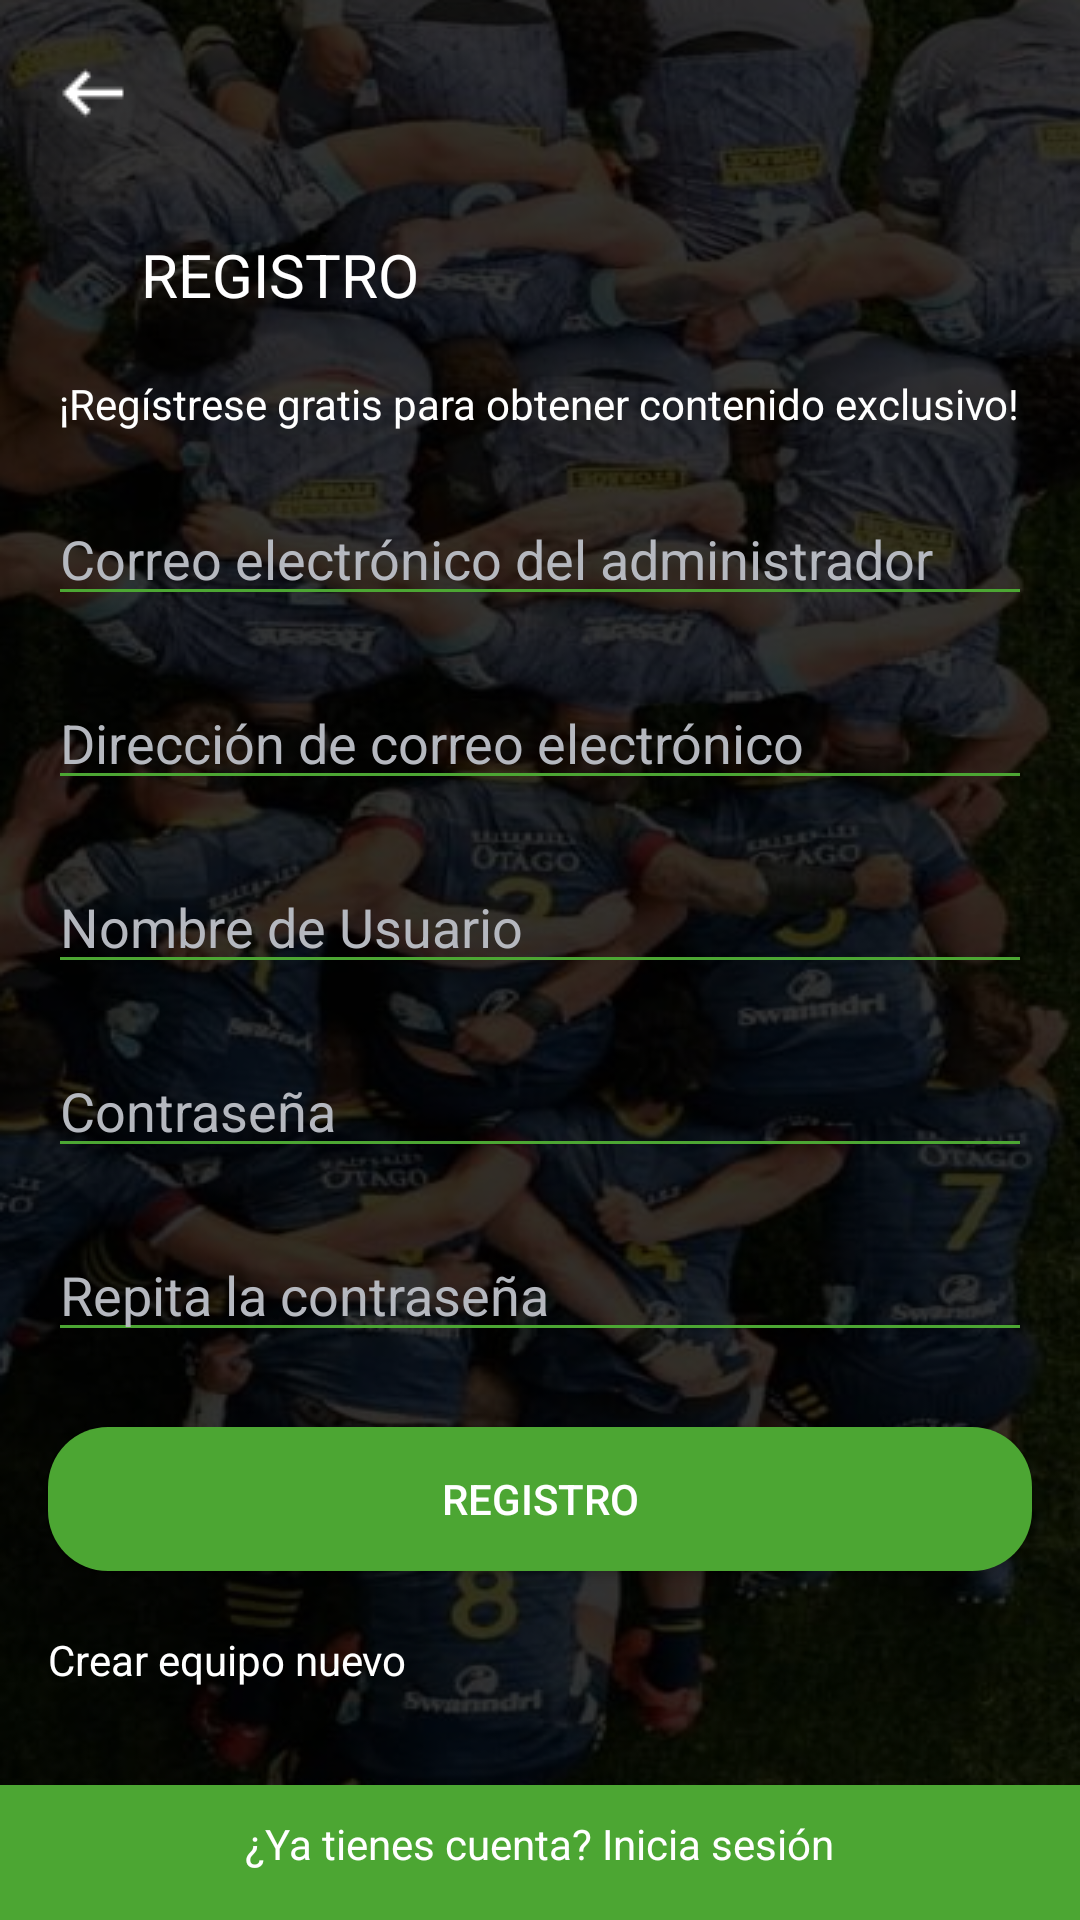

Locate icon controls on the screen. Image size 1080 x 1920, boxes as (x1, y1, x2, y2).
short left: (62, 69, 124, 117)
